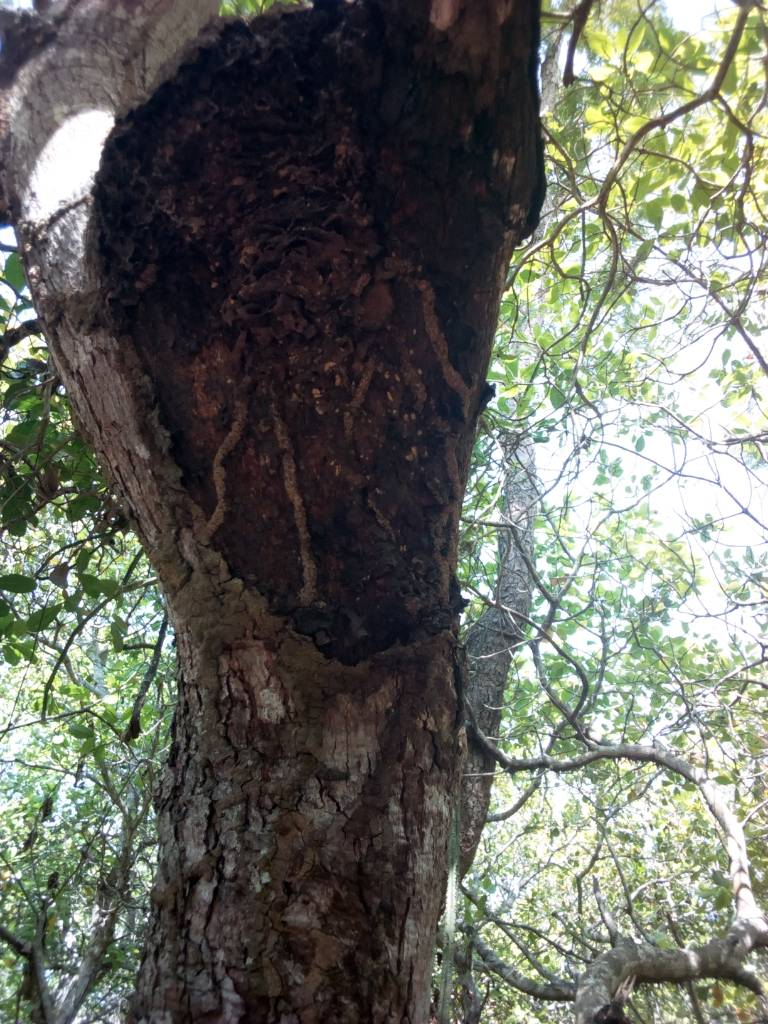Termites: (188, 69, 460, 1024)
